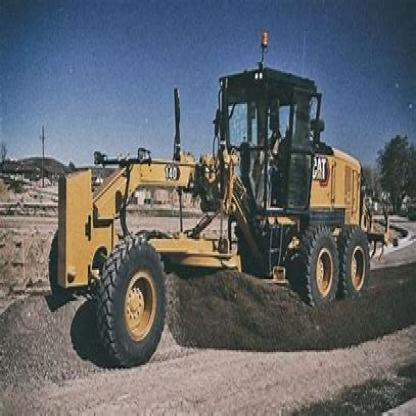bull_dozer/loader/grader: (38, 57, 381, 363)
